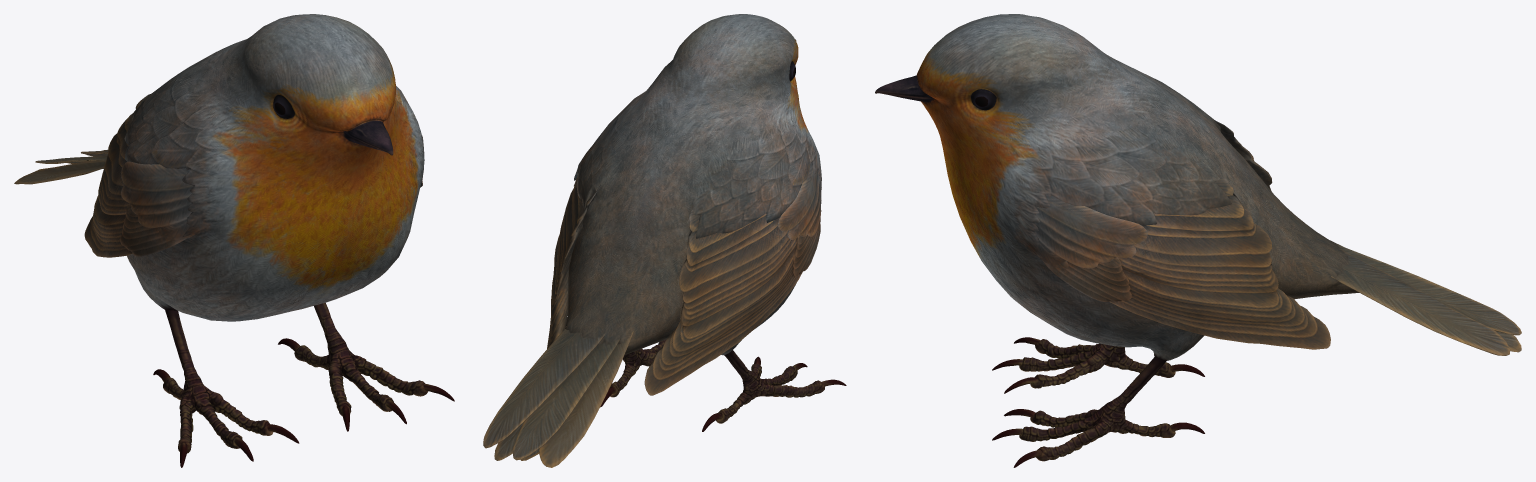
The model's file is robin2.glb.
3 renders of one model, left to right at view 1: azimuth 30°, elevation 25°; view 2: azimuth 150°, elevation 25°; view 3: azimuth 270°, elevation 25°, orthographic. The views are drawn at different scales.
Parts seen in each view (by area): view 1: Europen Robin_0; view 2: Europen Robin_0; view 3: Europen Robin_0.
Boxes of the visible parts, x1,y1,x2,y2 form: Europen Robin_0: [14, 14, 454, 467]; Europen Robin_0: [483, 14, 846, 467]; Europen Robin_0: [875, 14, 1521, 467].
Size of what is drawn, in the model's own units: 2.36 by 3.41 by 5.17.
Materials: 1 (1 with a texture image).
